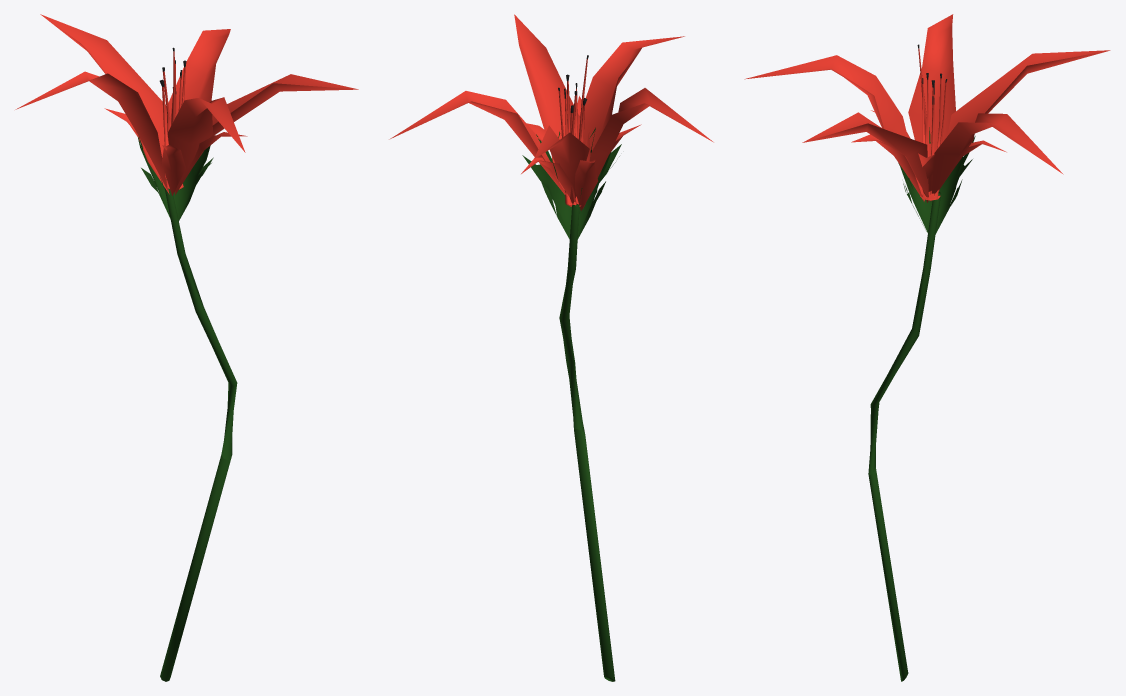
Rendered from Flower.fbx.
3 views of the same model, side by side, from view 1: azimuth 30°, elevation 25°; view 2: azimuth 150°, elevation 25°; view 3: azimuth 270°, elevation 25° (orthographic). The views are drawn at different scales.
Visible parts, largest first — view 1: Plane, Plane.003, Plane.005, Plane.006, Plane.001, Plane.004, Plane.002, Plane.008, Plane.009; view 2: Plane, Plane.004, Plane.005, Plane.001, Plane.006, Plane.002, Plane.003, Plane.008, Plane.010, Plane.011; view 3: Plane, Plane.006, Plane.001, Plane.005, Plane.003, Plane.004, Plane.002, Plane.008, Plane.013.
Boxes of the visible parts, x1,y1,x2,y2 form: Plane: (160, 187, 237, 681); Plane.003: (40, 14, 164, 157); Plane.005: (167, 97, 245, 192); Plane.006: (15, 71, 167, 190); Plane.001: (168, 29, 230, 119); Plane.004: (196, 74, 358, 161); Plane.002: (137, 136, 210, 219); Plane.008: (159, 47, 186, 189); Plane.009: (161, 145, 185, 195); Plane: (559, 204, 615, 681); Plane.004: (514, 14, 580, 139); Plane.005: (579, 36, 684, 150); Plane.001: (389, 91, 571, 202); Plane.006: (584, 88, 713, 206); Plane.002: (522, 127, 621, 237); Plane.003: (534, 125, 589, 203); Plane.008: (558, 55, 588, 206); Plane.010: (575, 159, 598, 210); Plane.011: (521, 157, 576, 204); Plane: (868, 192, 940, 681); Plane.006: (908, 14, 955, 156); Plane.001: (931, 113, 1063, 195); Plane.005: (744, 55, 920, 191); Plane.003: (938, 50, 1110, 191); Plane.004: (802, 112, 928, 197); Plane.002: (898, 127, 975, 232); Plane.008: (917, 44, 947, 200); Plane.013: (851, 134, 924, 201).
Bounding box in the file's own units: 259 × 295 × 567.
